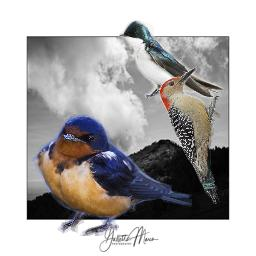Swallow: (32, 114, 192, 236), (118, 19, 224, 101)
Woodpecker: (160, 66, 220, 205)
